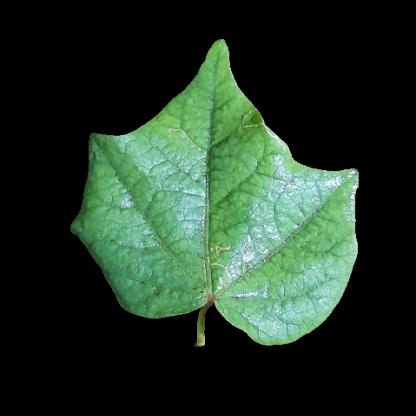healthy: (105, 153, 211, 284), (226, 157, 291, 319)
